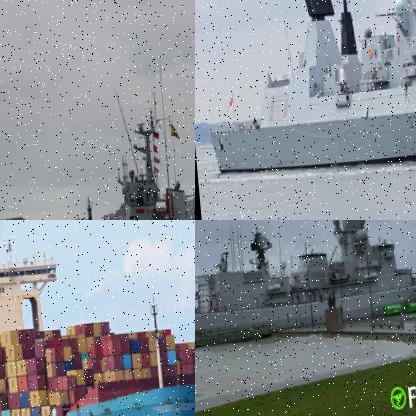Merchant Ship: (0, 220, 194, 415)
Military Ship: (195, 0, 415, 182), (0, 47, 194, 219), (195, 220, 415, 352)
